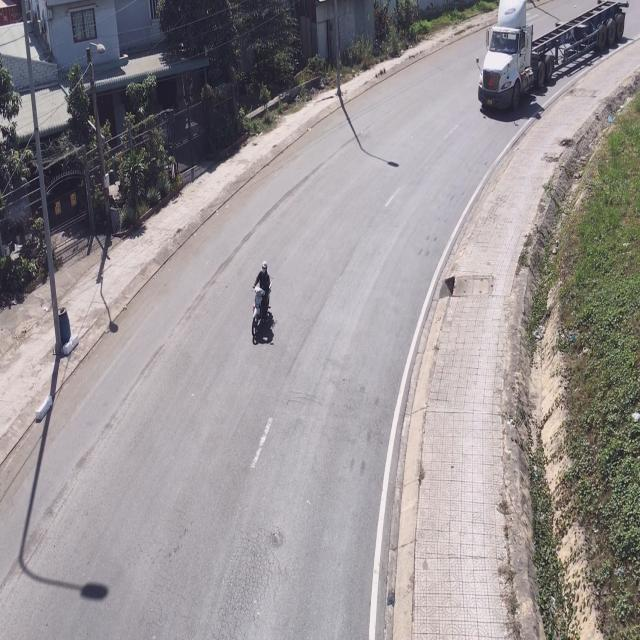motorbike: (252, 261, 277, 344)
truck: (479, 1, 629, 116)
